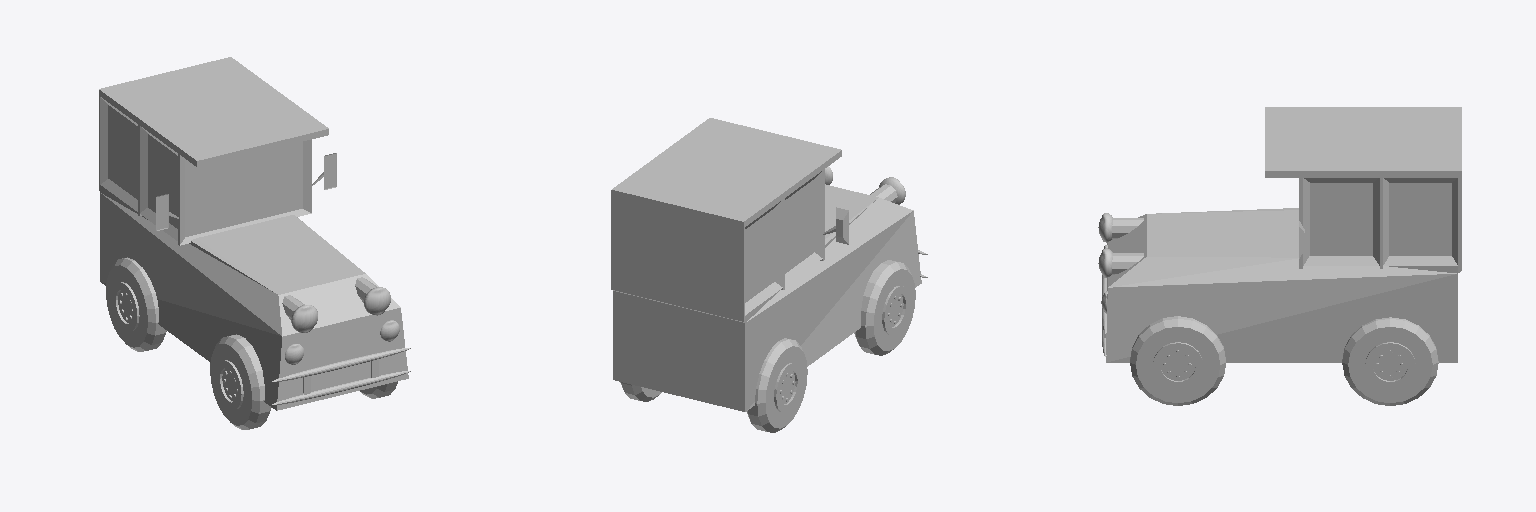
File: car.obj
3 views of the same model, side by side, from view 1: azimuth 30°, elevation 25°; view 2: azimuth 150°, elevation 25°; view 3: azimuth 270°, elevation 25° (orthographic).
Parts seen in each view (by area): view 1: pCube1.001, polySurface4.001, polySurface3.001, polySurface1.001, pSphere6.001, pSphere5.001; view 2: pCube1.001, polySurface4.001, polySurface3.001; view 3: pCube1.001, tire:polySurface2, polySurface2.001.
Boxes of the visible parts, box(x1,y1,x2,y2) form: pCube1.001: box(99, 57, 408, 410); polySurface4.001: box(210, 334, 271, 429); polySurface3.001: box(106, 257, 166, 351); polySurface1.001: box(272, 348, 410, 404); pSphere6.001: box(364, 287, 390, 315); pSphere5.001: box(291, 305, 317, 332); pCube1.001: box(611, 118, 921, 411); polySurface4.001: box(854, 260, 915, 355); polySurface3.001: box(747, 338, 807, 432); pCube1.001: box(1106, 107, 1461, 362); tire:polySurface2: box(1130, 316, 1225, 405); polySurface2.001: box(1342, 317, 1438, 405).
Size of the model in its own units: 1.26 by 1.56 by 2.19.